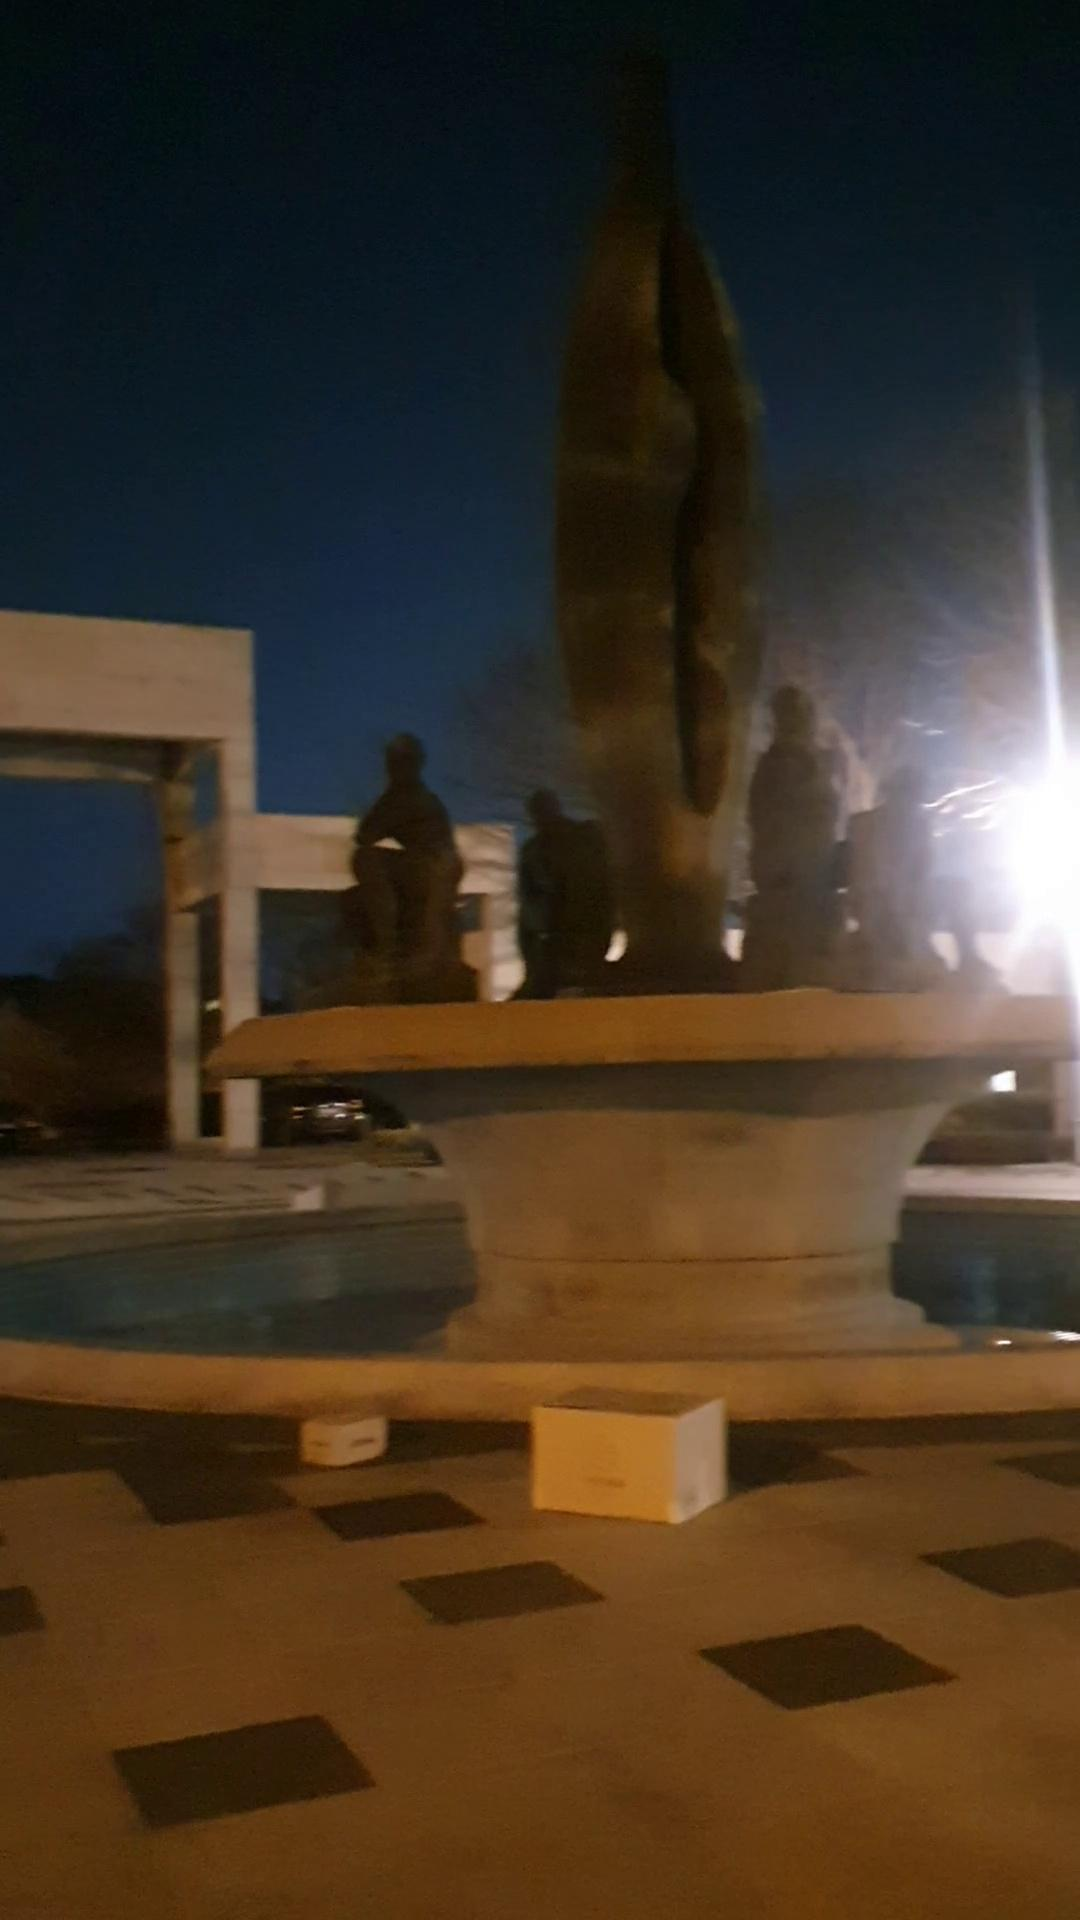Box: (521, 1379, 731, 1540), (293, 1400, 402, 1480)
